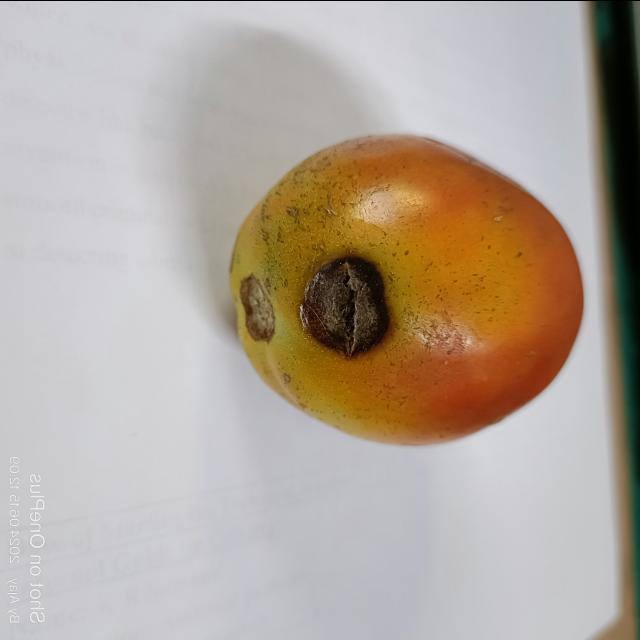Anthrocnose: (302, 252, 396, 360), (242, 268, 278, 350)
